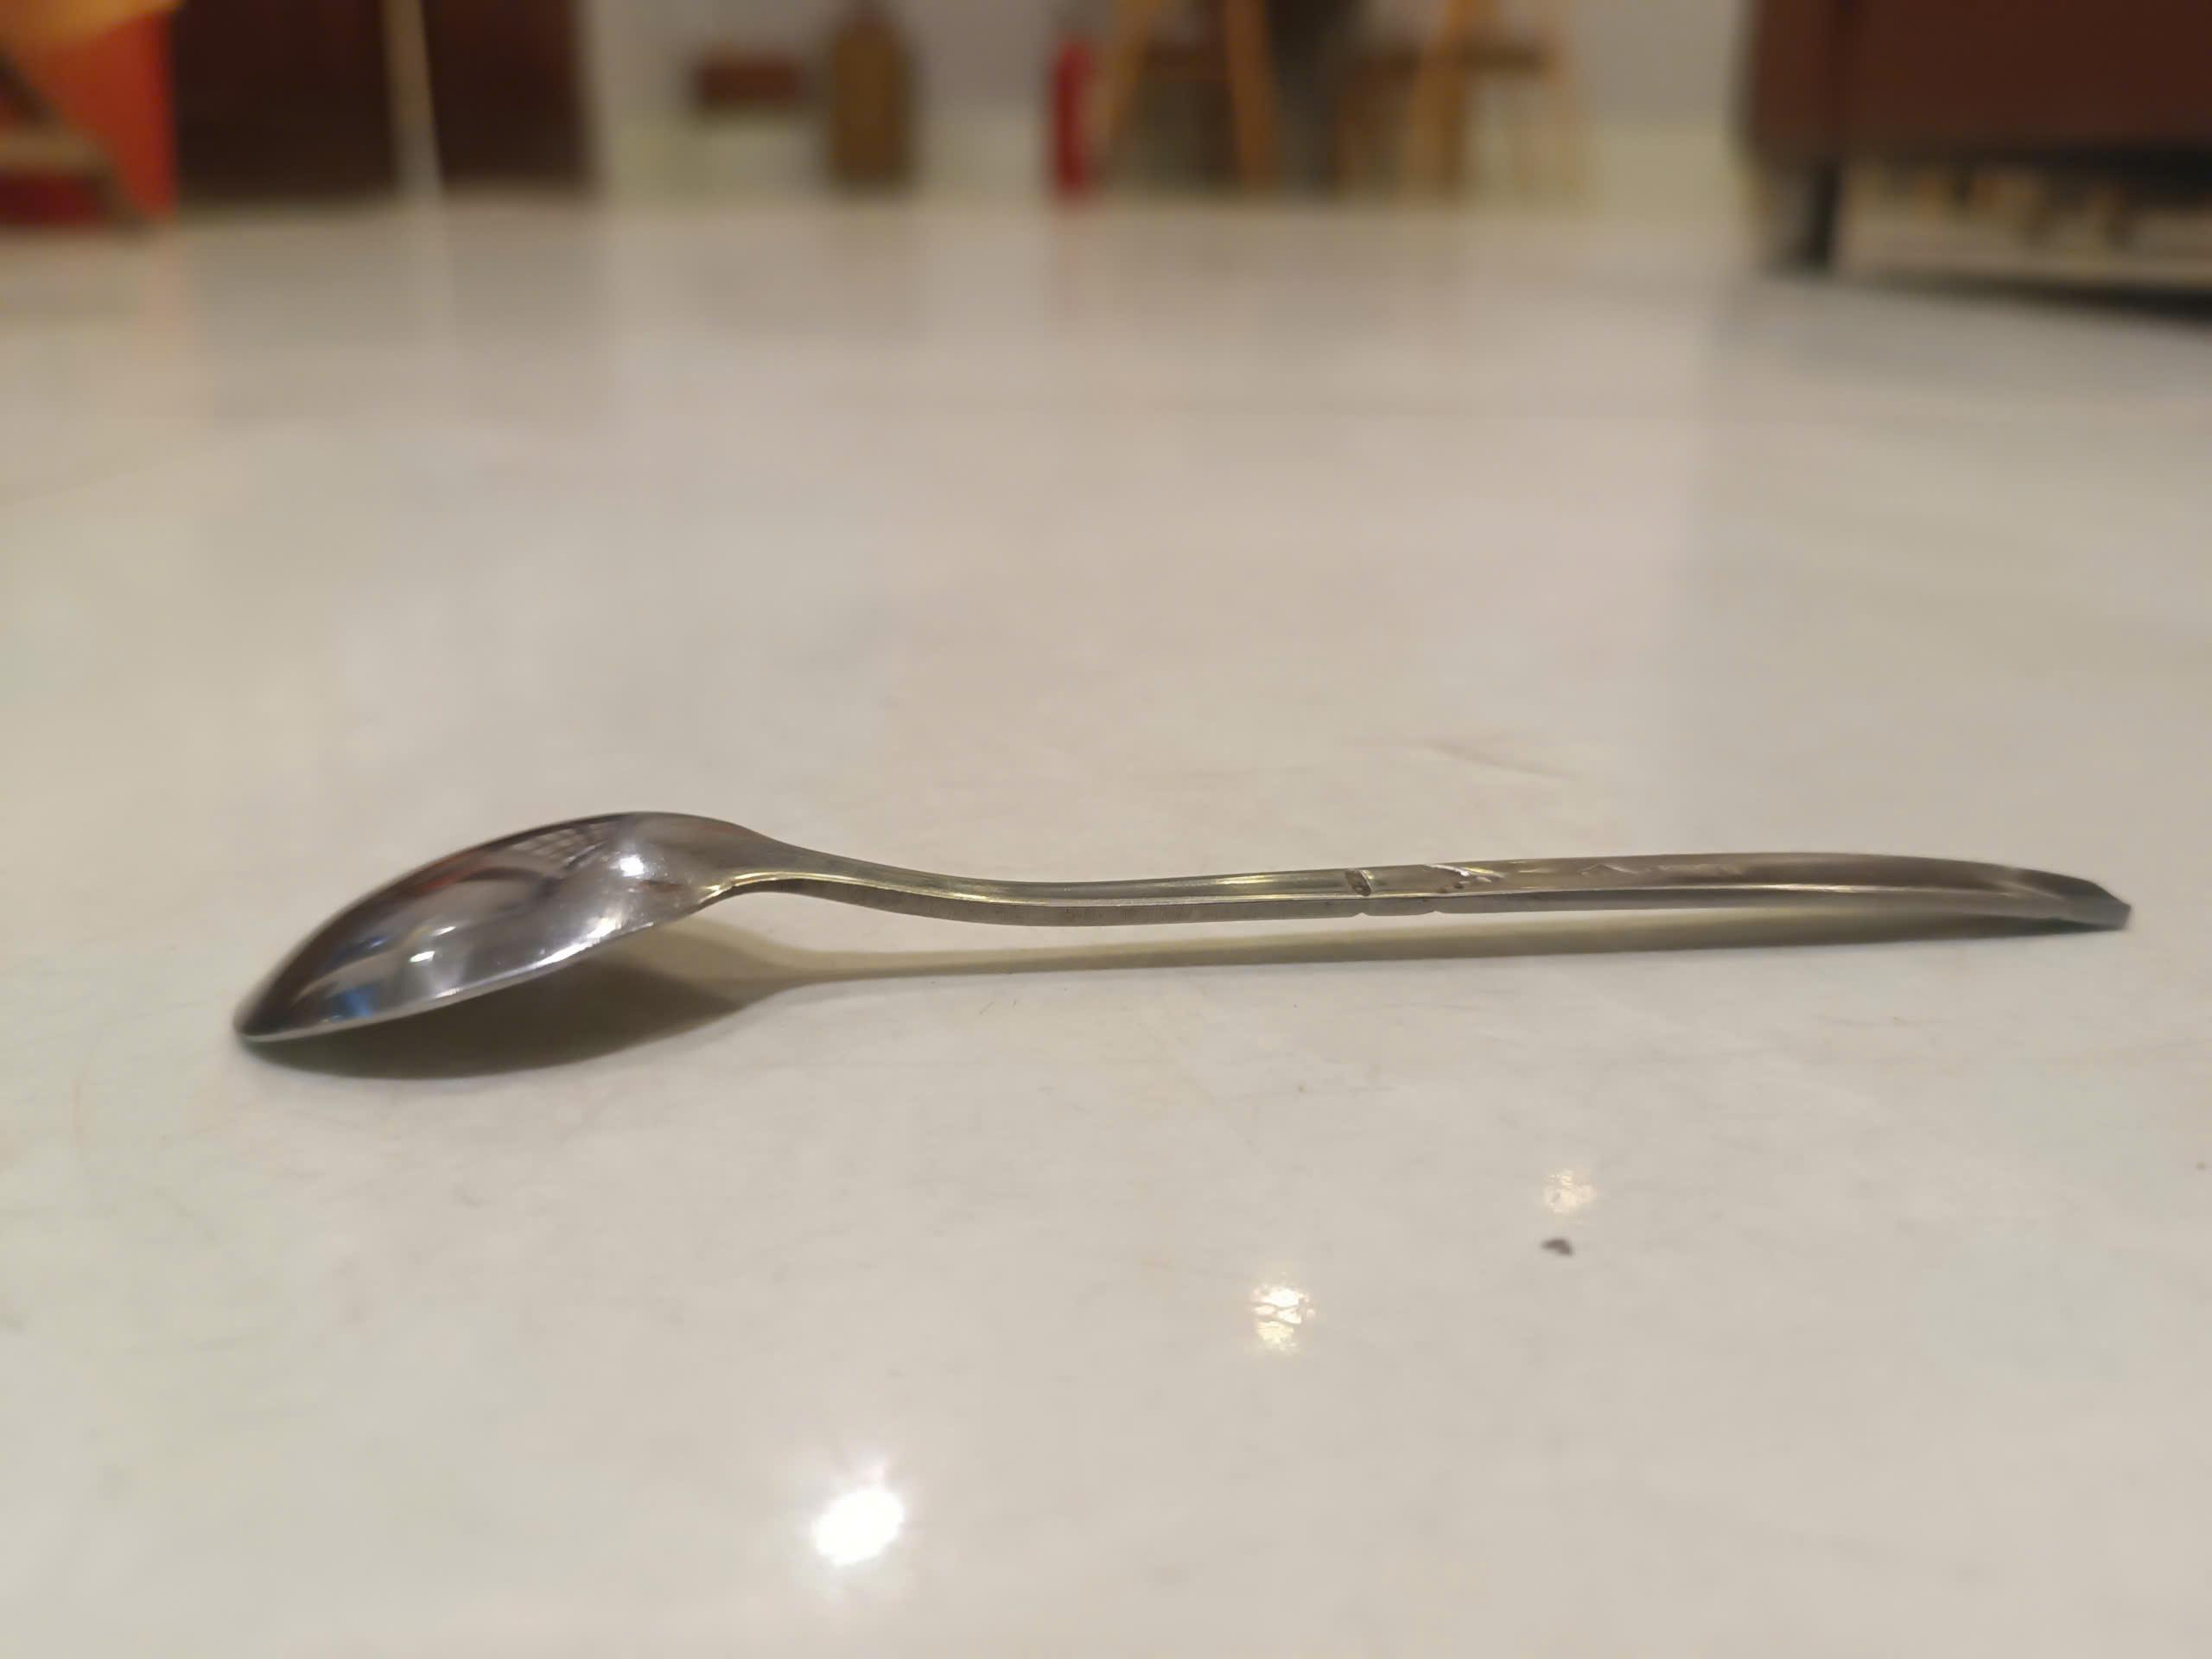Vo co: (228, 810, 2134, 1053)
